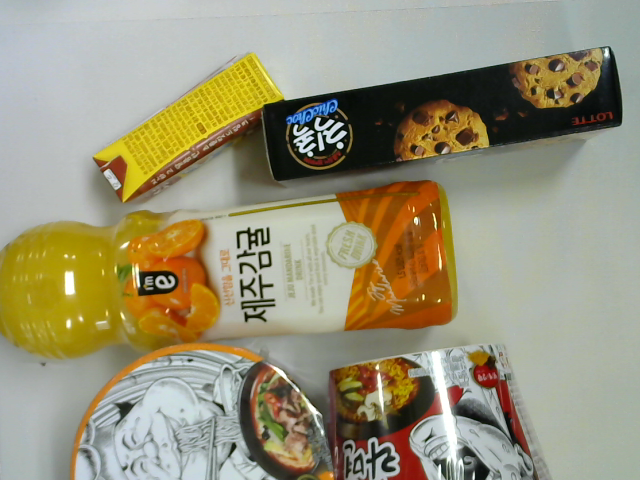Chicchok_Original_2400: (260, 44, 625, 187)
Choco_E_Mong: (90, 51, 283, 204)
Hejangchan: (68, 340, 336, 480)
Hejangpul: (327, 340, 557, 480)
Jeju_Tangerine_1.5L: (1, 179, 462, 361)
